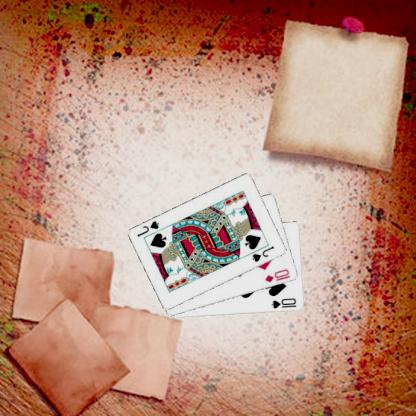10D: (264, 266, 294, 284)
10S: (270, 296, 300, 310)
JS: (252, 243, 278, 263), (136, 218, 162, 238)
